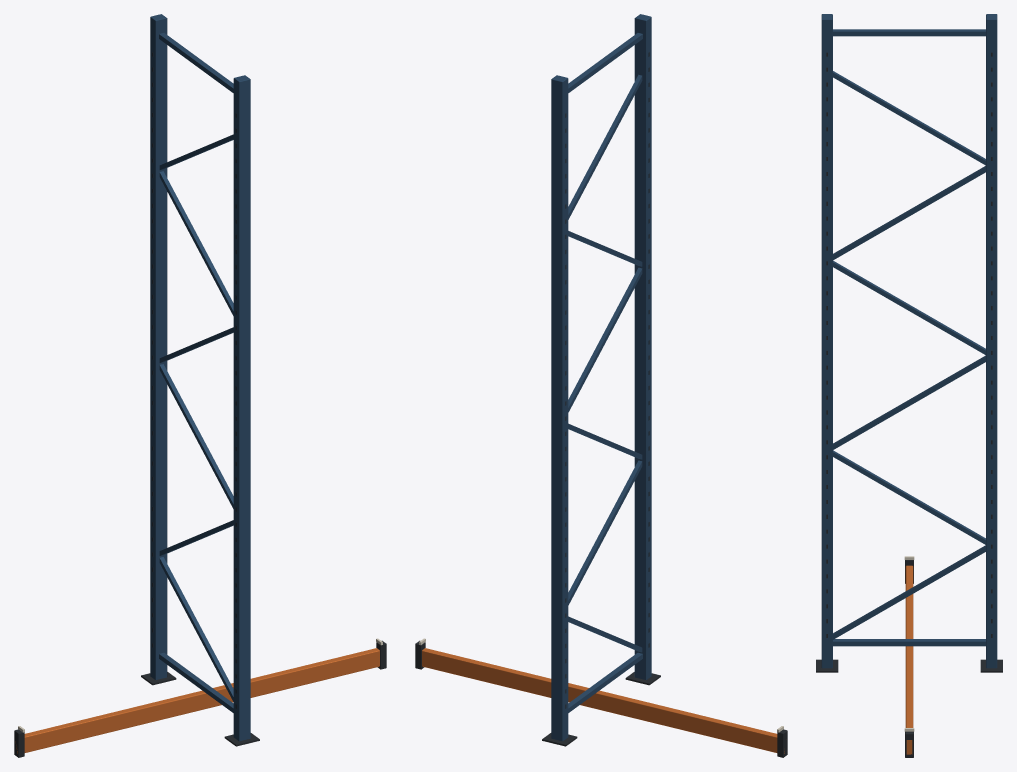
The model's file is rack.glb.
The picture shows the model from 3 angles, left to right: view 1: azimuth 30°, elevation 25°; view 2: azimuth 150°, elevation 25°; view 3: azimuth 270°, elevation 25°; orthographic projection.
Parts seen in each view (by area): view 1: rack_frame, rack_beam; view 2: rack_frame, rack_beam; view 3: rack_frame, rack_beam.
Part boxes in pixels (box(x1,y1,x2,y2)): rack_frame: box(141, 14, 259, 746); rack_beam: box(14, 638, 386, 757); rack_frame: box(542, 14, 660, 746); rack_beam: box(415, 638, 787, 757); rack_frame: box(816, 14, 1002, 672); rack_beam: box(904, 556, 914, 757).
Size of the model in its own units: 2.8 by 4.82 by 1.25.
Materials: 1 (1 with a texture image).
